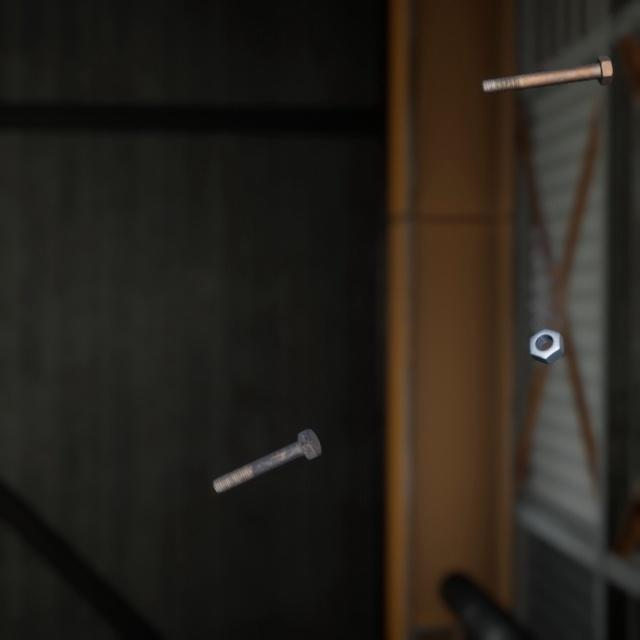bolt: (208, 402, 326, 476), (476, 40, 617, 87)
nut: (524, 305, 568, 350)
